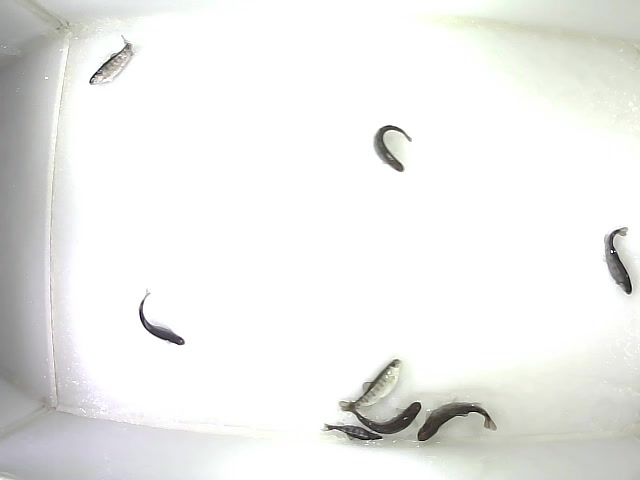fish: (339, 358, 403, 412), (417, 400, 498, 442), (340, 399, 423, 435), (138, 288, 186, 347), (87, 33, 136, 87), (371, 123, 414, 175), (602, 225, 633, 296), (320, 422, 384, 442)
